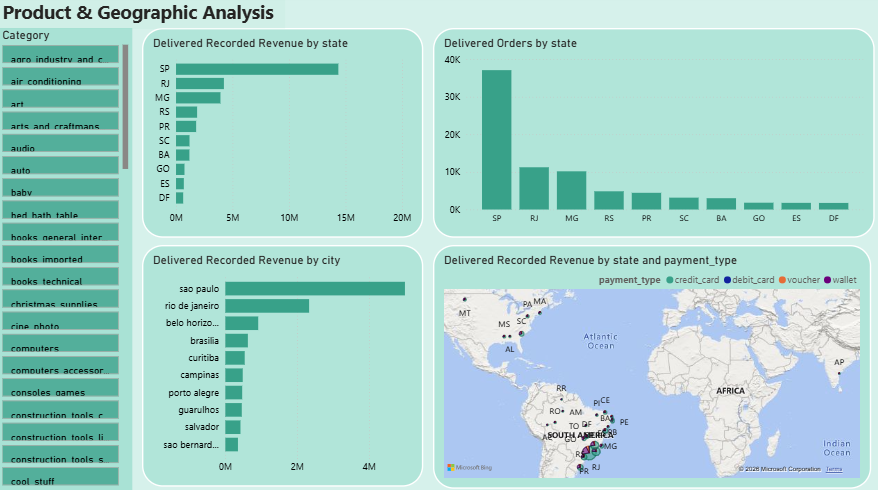

The page's visual inventory and layout, read from the dashboard file:
{"tool":"powerbi","page":{"name":"Page 3","canvas":[1280,720],"ordinal":2},"visuals":[{"type":"barChart","fields":{"Category":["sales_master_data_cleaned.city"],"Y":["sales_master_data_cleaned.Delivered Recorded Revenue"]},"box":[205.9,360,404.6,348.5],"z":0},{"type":"barChart","fields":{"Category":["sales_master_data_cleaned.state"],"Y":["sales_master_data_cleaned.Delivered Recorded Revenue"]},"box":[205.9,47.5,404.6,302.4],"z":1},{"type":"clusteredColumnChart","fields":{"Category":["sales_master_data_cleaned.state"],"Y":["sales_master_data_cleaned.Delivered Orders"]},"box":[625,47.5,636.5,302.4],"z":2},{"type":"map","fields":{"Category":["sales_master_data_cleaned.state"],"Size":["sales_master_data_cleaned.Delivered Recorded Revenue"],"Series":["sales_master_data_cleaned.payment_type"]},"box":[625,360,631,351],"z":3},{"type":"advancedSlicerVisual","title":"Category","fields":{"Values":["sales_master_data_cleaned.product_category_name"]},"box":[0,47.5,191.5,672.5],"z":4},{"type":"textbox","box":[0,0,411.8,49],"z":5}]}

Visuals, with their boxes in screenshot pixels (x1, y1, x2, y2), scaled from the page's 1280x720 canvas onto the 878x490 screenshot:
barChart - sales_master_data_cleaned.city x sales_master_data_cleaned.Delivered Recorded Revenue: (141, 245, 419, 482)
barChart - sales_master_data_cleaned.state x sales_master_data_cleaned.Delivered Recorded Revenue: (141, 32, 419, 238)
clusteredColumnChart - sales_master_data_cleaned.state x sales_master_data_cleaned.Delivered Orders: (429, 32, 865, 238)
map - sales_master_data_cleaned.state x sales_master_data_cleaned.Delivered Recorded Revenue: (429, 245, 862, 484)
"Category" advancedSlicerVisual: (0, 32, 131, 489)
textbox: (0, 0, 282, 33)
